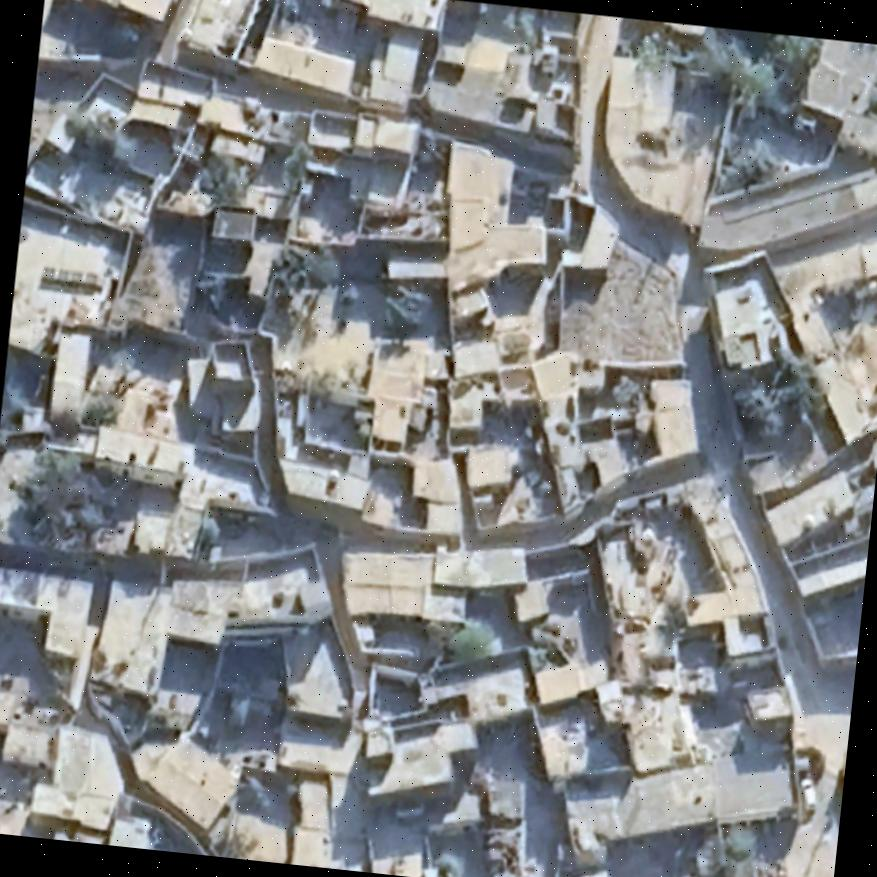Solarpanel: (39, 263, 98, 287)
